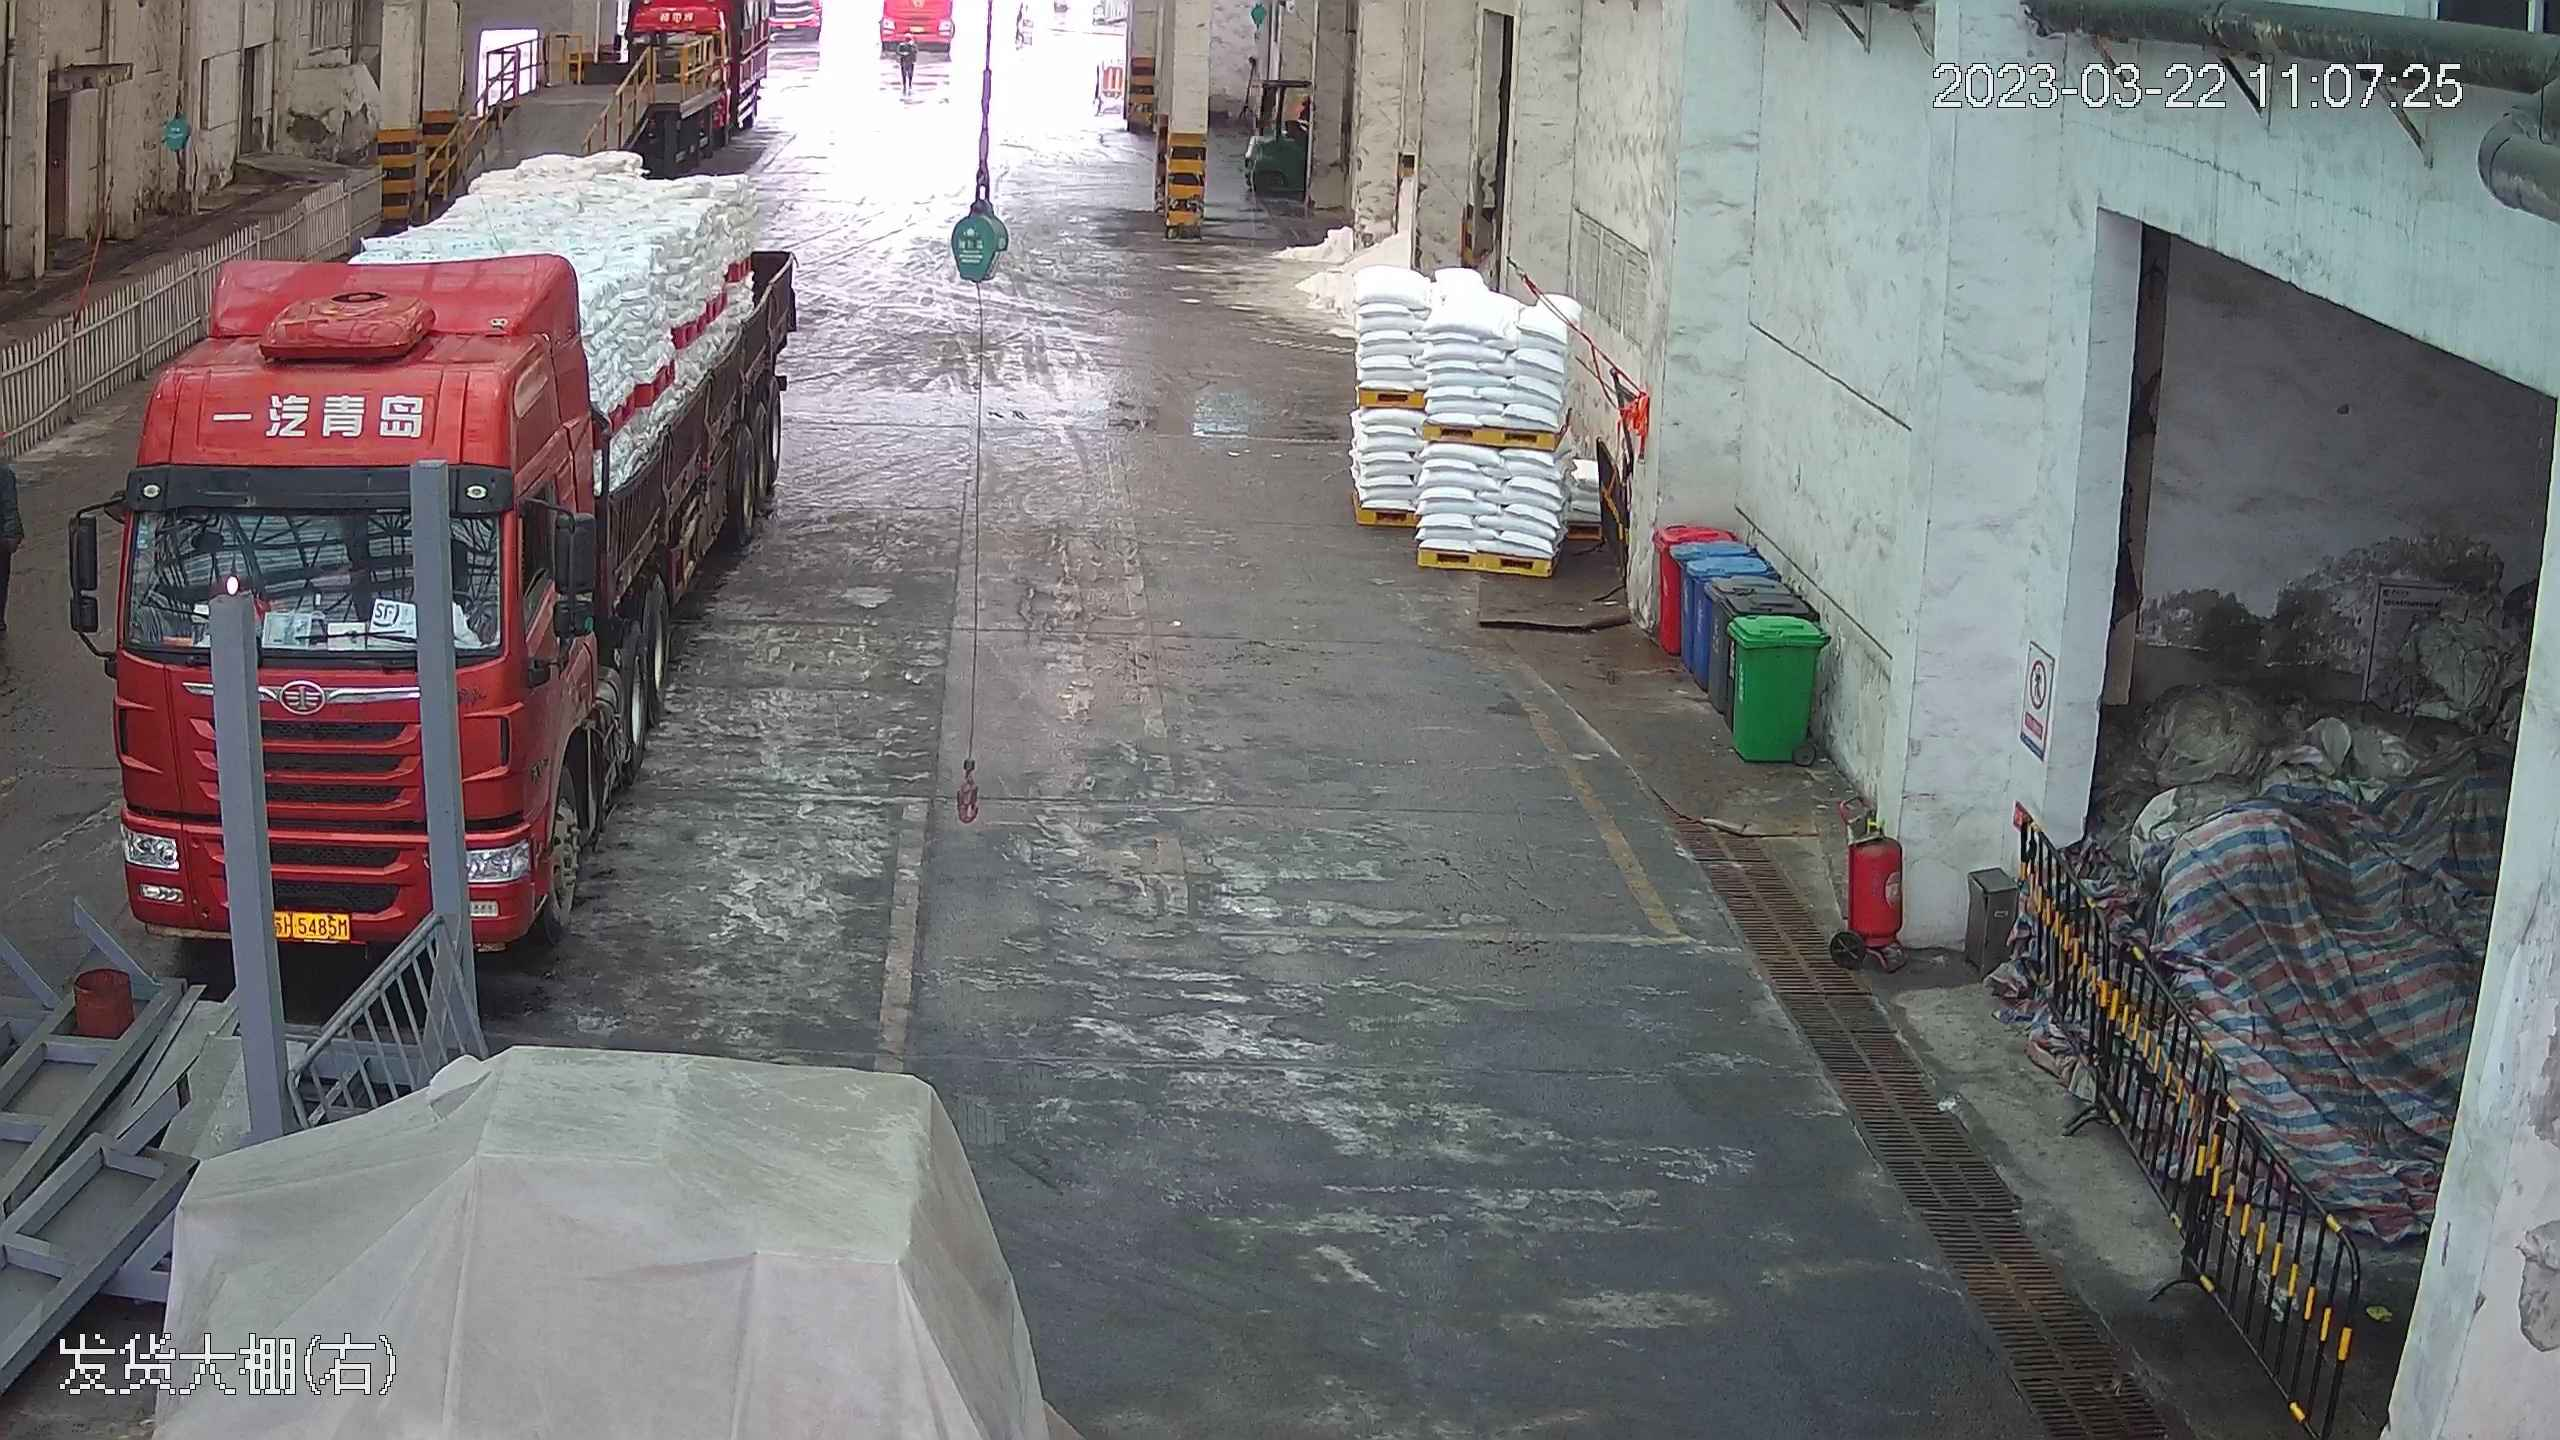people: (897, 28, 919, 92)
truck: (93, 190, 799, 971)
